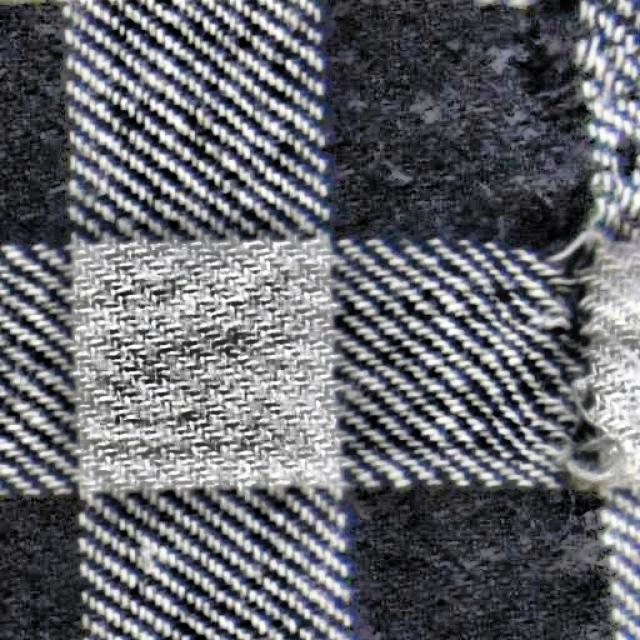cut: (521, 359, 639, 499), (519, 212, 628, 313)
